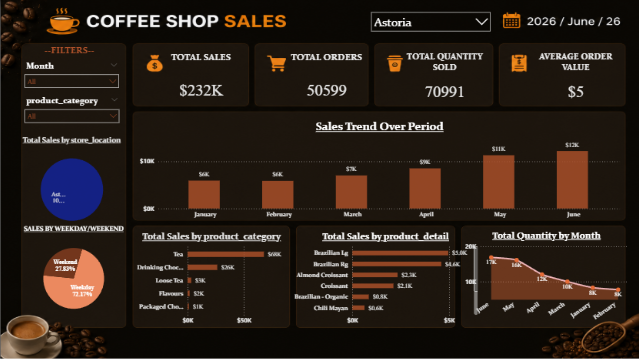

Layout of this report page (visuals, bound fields, positions):
{"tool":"powerbi","page":{"name":"Page 1","canvas":[1280,720],"ordinal":0},"visuals":[{"type":"card","title":"TOTAL SALES","fields":{"Values":["coffee_sales.Total Sales"]},"box":[280,83.3,240,150],"z":0},{"type":"card","title":"TOTAL ORDERS","fields":{"Values":["coffee_sales.Total Orders"]},"box":[572.2,83.7,157.5,150.1],"z":1000},{"type":"card","title":"TOTAL QUANTITY SOLD","fields":{"Values":["coffee_sales.Total Quantity"]},"box":[796.7,83.3,181.7,136.7],"z":2000},{"type":"card","title":"AVERAGE ORDER VALUE","fields":{"Values":["coffee_sales.Average Order Value"]},"box":[1056.7,83.3,185,136.7],"z":3000},{"type":"slicer","fields":{"Values":["coffee_sales.Month"]},"box":[38.1,102.1,207.9,81.2],"z":4000},{"type":"pieChart","title":"SALES BY WEEKDAY/WEEKEND","fields":{"Category":["coffee_sales.WeekdayWeekend"],"Y":["coffee_sales.Total Sales"]},"box":[25.8,441.7,223.9,212.9],"z":5000},{"type":"slicer","fields":{"Values":["coffee_sales.product_category"]},"box":[38.1,172.3,209.2,75.1],"z":7000},{"type":"textbox","box":[71.9,83.6,130.6,38.2],"z":8000},{"type":"clusteredColumnChart","title":"Sales Trend Over Period","fields":{"Category":["coffee_sales.transaction_date.Variation.Date Hierarchy.Month"],"Y":["coffee_sales.Total Sales"]},"box":[271.9,220.3,969.6,221.5],"z":9000},{"type":"pieChart","fields":{"Category":["coffee_sales.store_location"],"Y":["coffee_sales.Total Sales"]},"box":[30.8,251,223.9,217.8],"z":10000},{"type":"clusteredBarChart","fields":{"Category":["coffee_sales.product_category"],"Y":["coffee_sales.Total Sales"]},"box":[254.7,441.7,334.7,212.9],"z":11000},{"type":"clusteredBarChart","fields":{"Category":["coffee_sales.product_detail"],"Y":["coffee_sales.Total Sales"]},"box":[580.8,441.7,377.7,212.9],"z":12000},{"type":"areaChart","fields":{"Category":["coffee_sales.Month"],"Y":["coffee_sales.Total Quantity"]},"box":[921.2,440.8,336,214.6],"z":13000},{"type":"slicer","fields":{"Values":["coffee_sales.store_location"]},"box":[729.7,0,258.4,102.1],"z":13001}]}

Visuals, with their boxes in screenshot pixels (x1, y1, x2, y2), scaled from the page's 1280x720 canvas onto the 639x359 screenshot:
"TOTAL SALES" card: rect(140, 42, 260, 116)
"TOTAL ORDERS" card: rect(286, 42, 364, 117)
"TOTAL QUANTITY SOLD" card: rect(398, 42, 488, 110)
"AVERAGE ORDER VALUE" card: rect(528, 42, 620, 110)
slicer - coffee_sales.Month: rect(19, 51, 123, 91)
"SALES BY WEEKDAY/WEEKEND" pieChart: rect(13, 220, 125, 326)
slicer - coffee_sales.product_category: rect(19, 86, 123, 123)
textbox: rect(36, 42, 101, 61)
"Sales Trend Over Period" clusteredColumnChart: rect(136, 110, 620, 220)
pieChart - coffee_sales.store_location x coffee_sales.Total Sales: rect(15, 125, 127, 234)
clusteredBarChart - coffee_sales.product_category x coffee_sales.Total Sales: rect(127, 220, 294, 326)
clusteredBarChart - coffee_sales.product_detail x coffee_sales.Total Sales: rect(290, 220, 479, 326)
areaChart - coffee_sales.Month x coffee_sales.Total Quantity: rect(460, 220, 628, 327)
slicer - coffee_sales.store_location: rect(364, 0, 493, 51)
